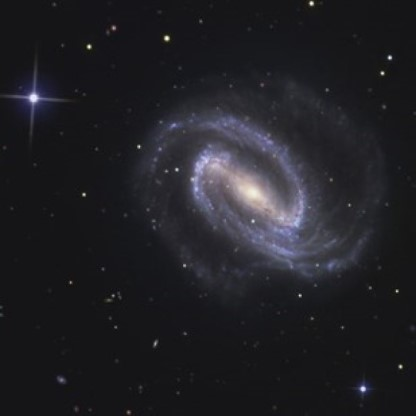NGC 1300: (108, 71, 381, 299)
